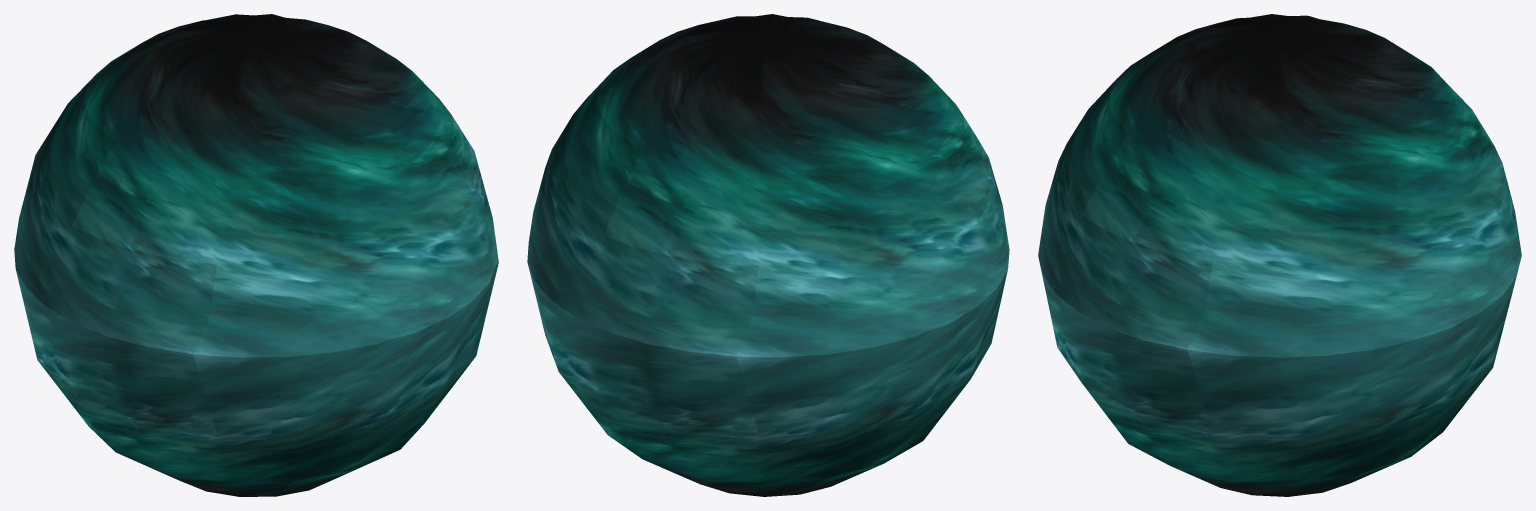
Rendered from sky2.fbx.
3 renders of one model, left to right at view 1: azimuth 30°, elevation 25°; view 2: azimuth 150°, elevation 25°; view 3: azimuth 270°, elevation 25°, orthographic.
Visible parts, largest first — view 1: deathclouds; view 2: deathclouds; view 3: deathclouds.
Part boxes in pixels (<box>): deathclouds: <box>14,14,498,496</box>; deathclouds: <box>527,14,1009,496</box>; deathclouds: <box>1038,14,1521,496</box>.
Size of the model in its own units: 2485 by 2485 by 2485.
Materials: 1 (1 with a texture image).
